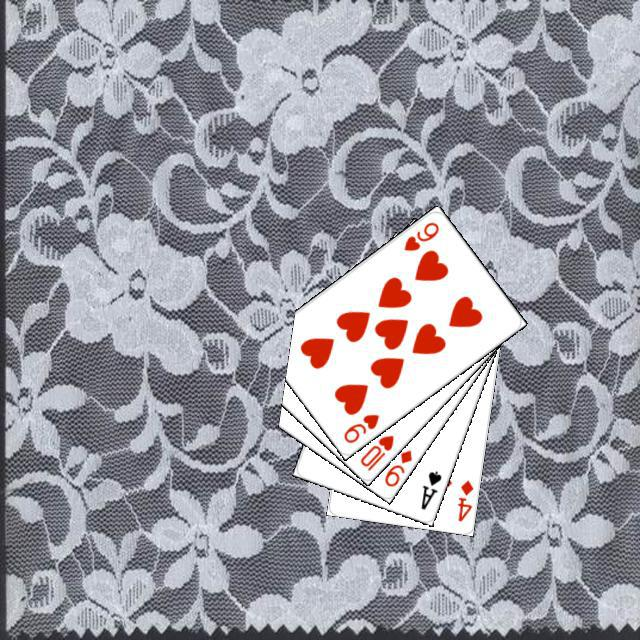10h: (355, 430, 396, 473)
4d: (453, 475, 475, 523)
9d: (379, 445, 414, 489)
9h: (339, 409, 381, 445), (399, 217, 441, 253)
As: (416, 466, 443, 511)
